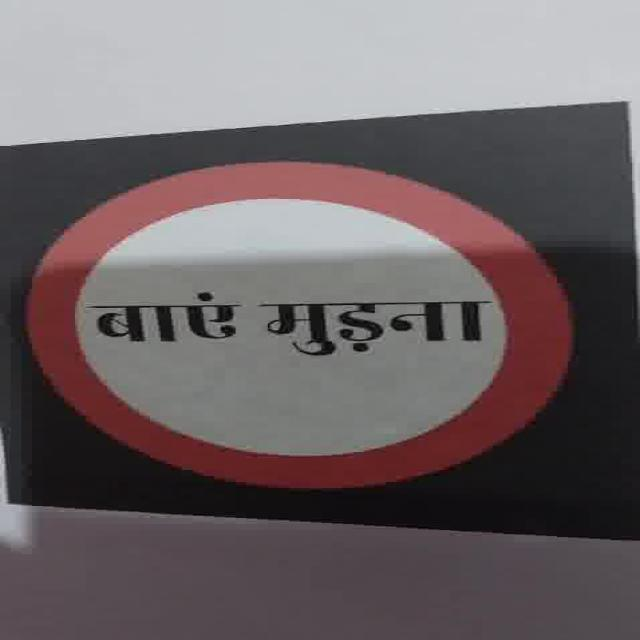hindileft: (24, 160, 574, 490), (86, 292, 494, 356), (54, 283, 256, 361)
